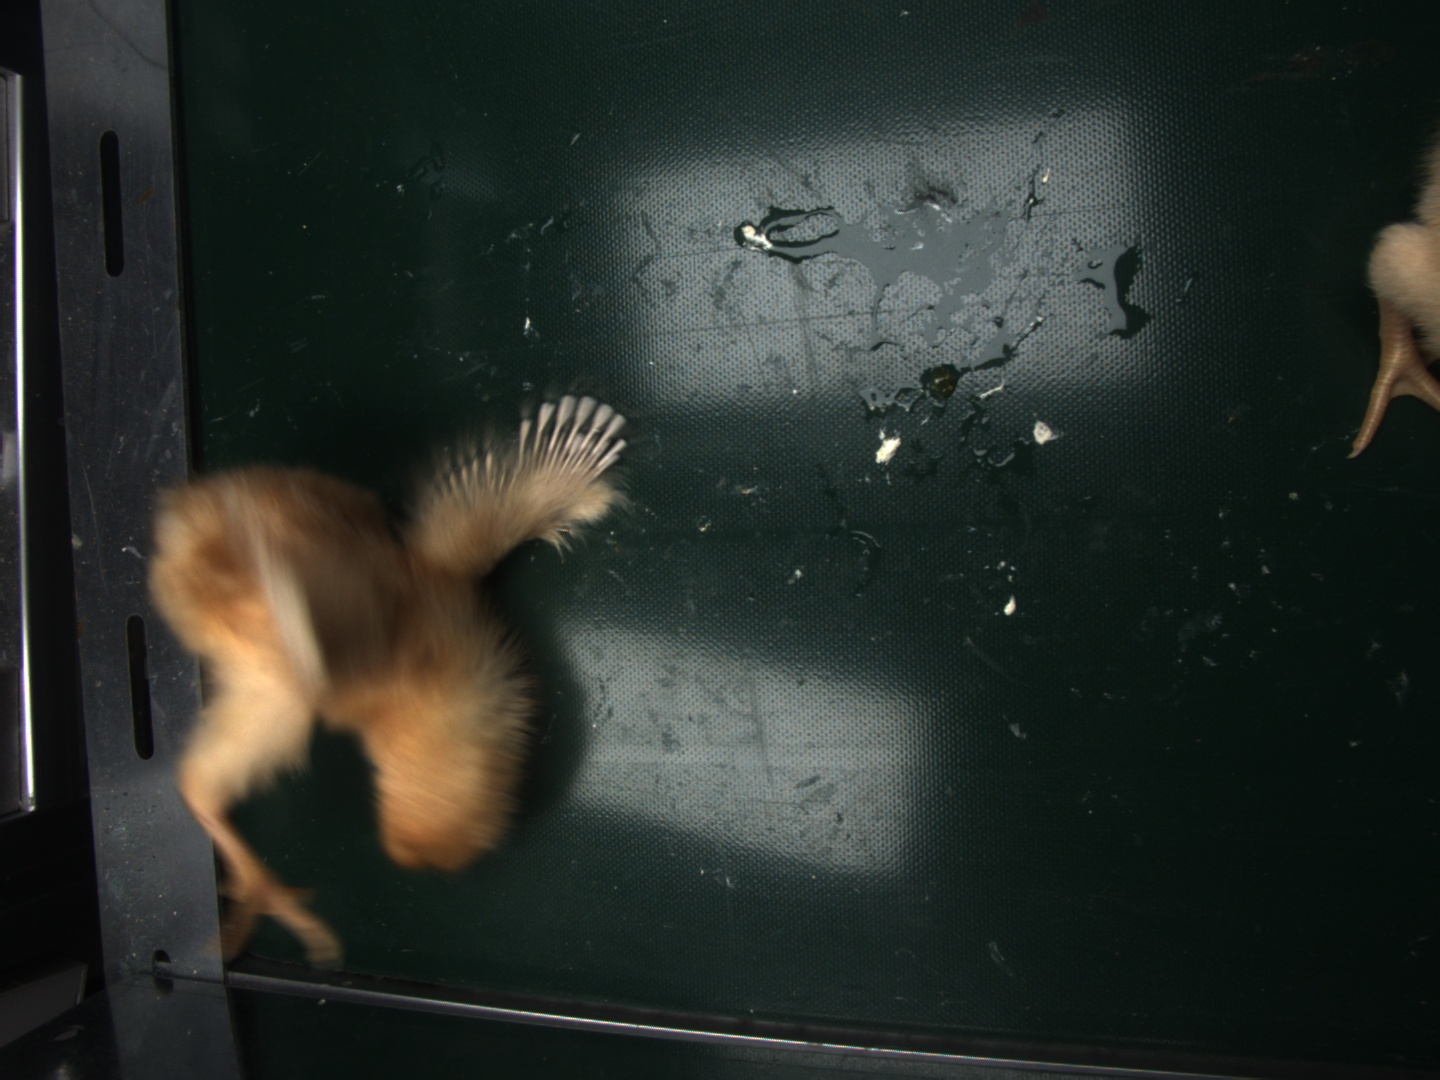female: (519, 397, 629, 480)
